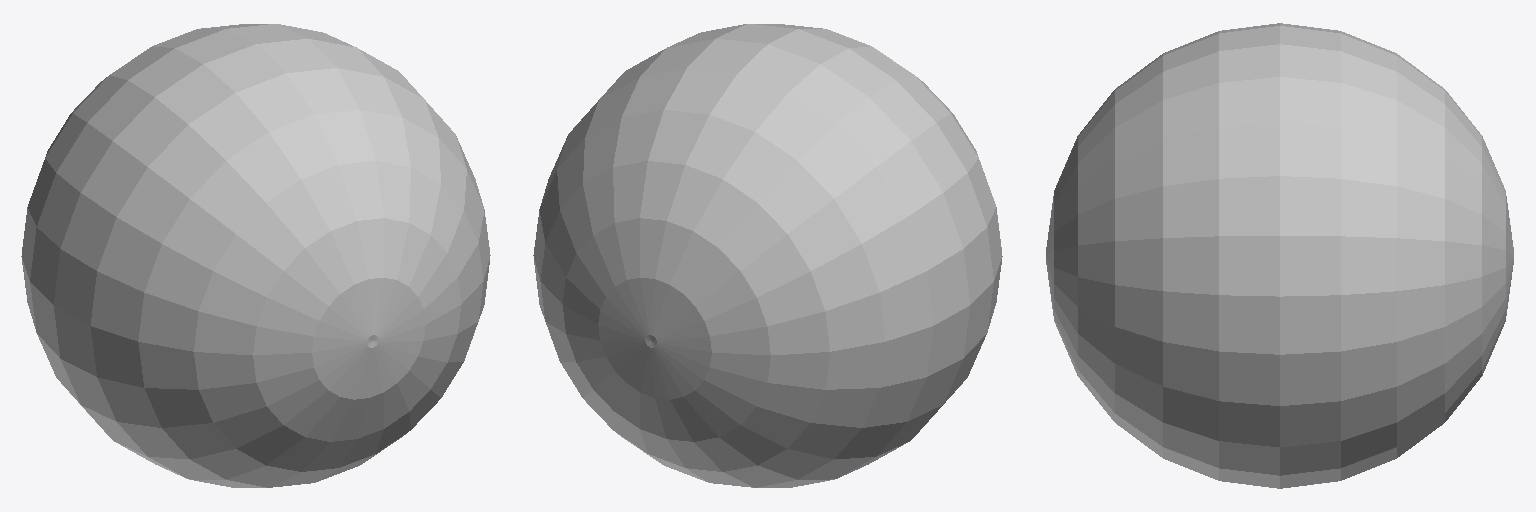
File: PointLight.obj
3 views of the same model, side by side, from view 1: azimuth 30°, elevation 25°; view 2: azimuth 150°, elevation 25°; view 3: azimuth 270°, elevation 25° (orthographic).
Parts seen in each view (by area): view 1: mergedBlocks; view 2: mergedBlocks; view 3: mergedBlocks.
Part boxes in pixels (bbox=[...]): mergedBlocks: bbox=[21, 24, 490, 487]; mergedBlocks: bbox=[533, 24, 1002, 487]; mergedBlocks: bbox=[1046, 23, 1513, 488].
Size of the model in its own units: 1 by 1 by 1.